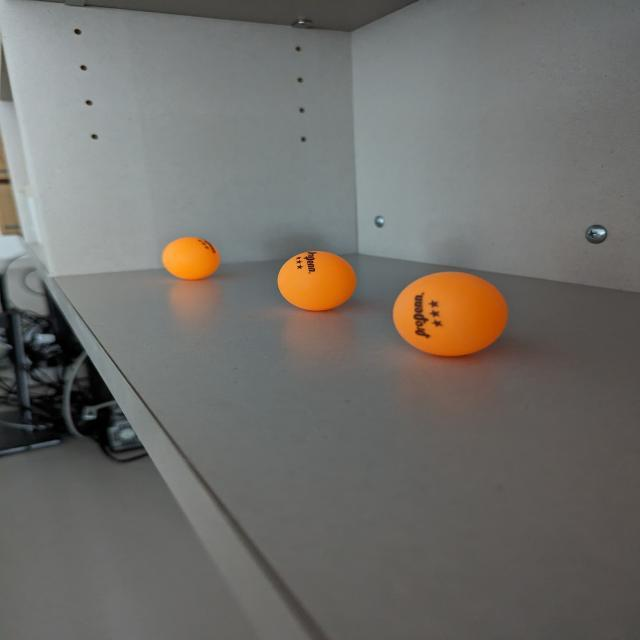ping-pong-ball: (388, 266, 511, 365), (268, 244, 362, 314), (156, 232, 224, 282)
